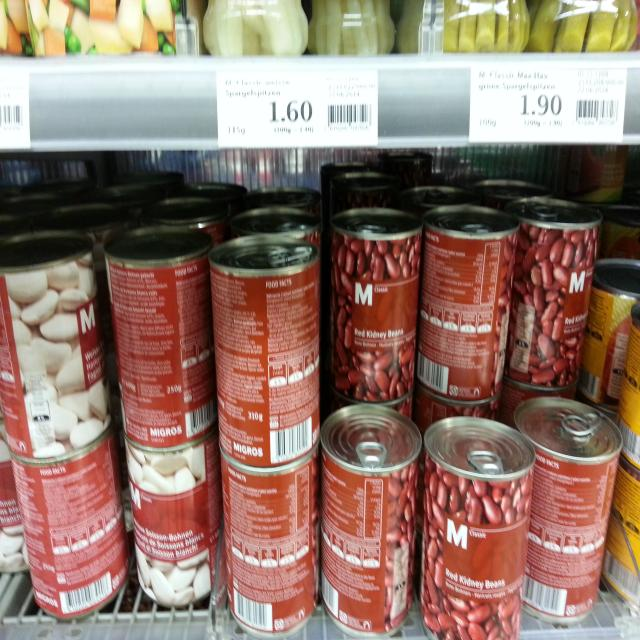Canned: (209, 230, 325, 467), (103, 230, 224, 454), (0, 420, 127, 621), (513, 397, 626, 622), (424, 411, 535, 640), (318, 398, 423, 633), (0, 242, 111, 463), (120, 421, 225, 616), (218, 447, 323, 640), (422, 203, 522, 405), (510, 190, 604, 388), (333, 203, 425, 403)
